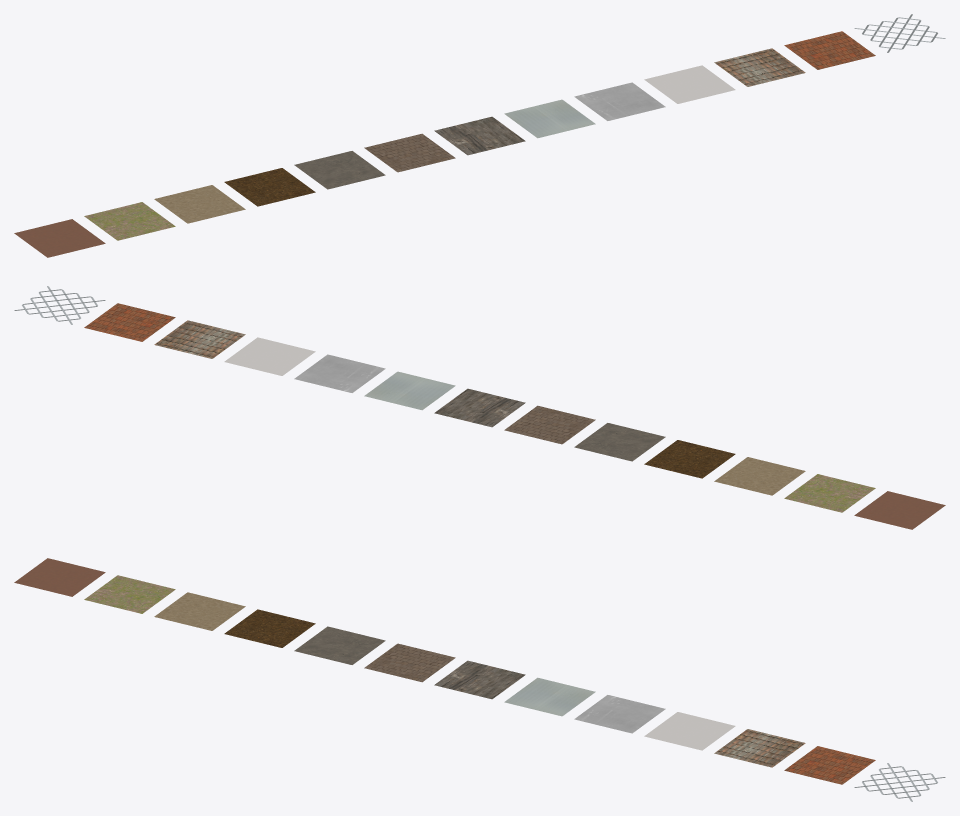
File: recreation_materials.glb
The picture shows the model from 3 angles, top to bottom: view 1: azimuth 30°, elevation 25°; view 2: azimuth 150°, elevation 25°; view 3: azimuth 330°, elevation 25°; orthographic projection.
Visible parts, largest first — view 1: LibSwatch_metal_galvanized, LibSwatch_paving_stones, LibSwatch_concrete, LibSwatch_grass, LibSwatch_metal_painted, LibSwatch_roof_tiles_clay_red, LibSwatch_roof_tiles_clay_weathered, LibSwatch_sand, LibSwatch_bark_mulch, LibSwatch_plaster_smooth, LibSwatch_red_clay_court, LibSwatch_wood_beam_oak (+1 smaller); view 2: LibSwatch_metal_galvanized, LibSwatch_paving_stones, LibSwatch_concrete, LibSwatch_grass, LibSwatch_metal_painted, LibSwatch_roof_tiles_clay_red, LibSwatch_roof_tiles_clay_weathered, LibSwatch_sand, LibSwatch_bark_mulch, LibSwatch_plaster_smooth, LibSwatch_red_clay_court, LibSwatch_wood_beam_oak (+1 smaller); view 3: LibSwatch_metal_galvanized, LibSwatch_paving_stones, LibSwatch_concrete, LibSwatch_grass, LibSwatch_metal_painted, LibSwatch_roof_tiles_clay_red, LibSwatch_roof_tiles_clay_weathered, LibSwatch_sand, LibSwatch_bark_mulch, LibSwatch_plaster_smooth, LibSwatch_red_clay_court, LibSwatch_wood_beam_oak (+1 smaller).
Part boxes in pixels (bbox=[...]): LibSwatch_metal_galvanized: bbox=[504, 99, 595, 138]; LibSwatch_paving_stones: bbox=[364, 133, 455, 172]; LibSwatch_concrete: bbox=[294, 151, 385, 189]; LibSwatch_grass: bbox=[84, 202, 175, 240]; LibSwatch_metal_painted: bbox=[574, 82, 665, 120]; LibSwatch_roof_tiles_clay_red: bbox=[784, 31, 875, 69]; LibSwatch_roof_tiles_clay_weathered: bbox=[714, 48, 805, 86]; LibSwatch_sand: bbox=[154, 185, 245, 223]; LibSwatch_bark_mulch: bbox=[224, 168, 315, 206]; LibSwatch_plaster_smooth: bbox=[644, 65, 735, 103]; LibSwatch_red_clay_court: bbox=[14, 219, 105, 257]; LibSwatch_wood_beam_oak: bbox=[434, 116, 525, 155]; LibSwatch_metal_galvanized: bbox=[364, 371, 455, 410]; LibSwatch_paving_stones: bbox=[504, 405, 595, 444]; LibSwatch_concrete: bbox=[574, 423, 665, 461]; LibSwatch_grass: bbox=[784, 474, 875, 512]; LibSwatch_metal_painted: bbox=[294, 354, 385, 392]; LibSwatch_roof_tiles_clay_red: bbox=[84, 303, 175, 341]; LibSwatch_roof_tiles_clay_weathered: bbox=[154, 320, 245, 358]; LibSwatch_sand: bbox=[714, 457, 805, 495]; LibSwatch_bark_mulch: bbox=[644, 440, 735, 478]; LibSwatch_plaster_smooth: bbox=[224, 337, 315, 375]; LibSwatch_red_clay_court: bbox=[854, 491, 945, 529]; LibSwatch_wood_beam_oak: bbox=[434, 388, 525, 427]; LibSwatch_metal_galvanized: bbox=[504, 677, 595, 716]; LibSwatch_paving_stones: bbox=[364, 643, 455, 682]; LibSwatch_concrete: bbox=[294, 626, 385, 664]; LibSwatch_grass: bbox=[84, 575, 175, 613]; LibSwatch_metal_painted: bbox=[574, 695, 665, 733]; LibSwatch_roof_tiles_clay_red: bbox=[784, 746, 875, 784]; LibSwatch_roof_tiles_clay_weathered: bbox=[714, 729, 805, 767]; LibSwatch_sand: bbox=[154, 592, 245, 630]; LibSwatch_bark_mulch: bbox=[224, 609, 315, 647]; LibSwatch_plaster_smooth: bbox=[644, 712, 735, 750]; LibSwatch_red_clay_court: bbox=[14, 558, 105, 596]; LibSwatch_wood_beam_oak: bbox=[434, 660, 525, 699].
Size of the model in its own units: 15.4 by 0 by 1.
Materials: 13 (13 with a texture image).
